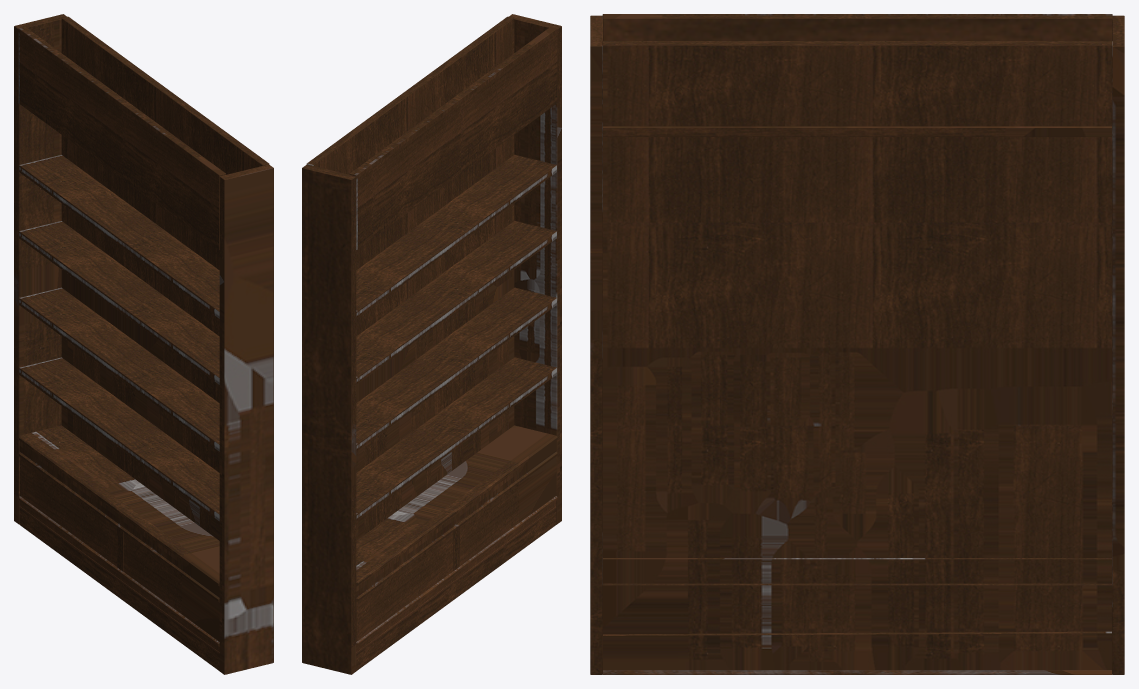
3 views of the same model, side by side, from view 1: azimuth 30°, elevation 25°; view 2: azimuth 150°, elevation 25°; view 3: azimuth 270°, elevation 25° (orthographic). The views are drawn at different scales.
Visible parts, largest first — view 1: 书柜02; view 2: 书柜02; view 3: 书柜02.
Boxes of the visible parts, x1,y1,x2,y2 form: 书柜02: [14, 14, 273, 674]; 书柜02: [302, 14, 561, 674]; 书柜02: [590, 14, 1124, 674].
Size of the model in its own units: 289 by 2703 by 2075.
